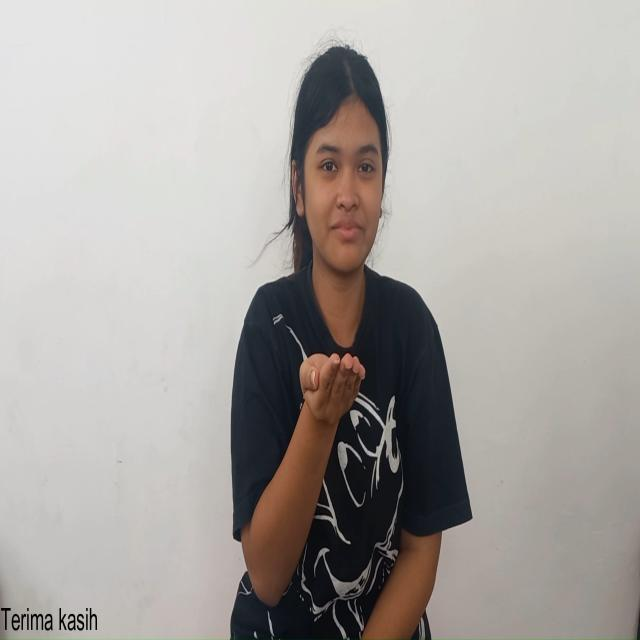Terima kasih -BISINDO-: (239, 348, 368, 606)
